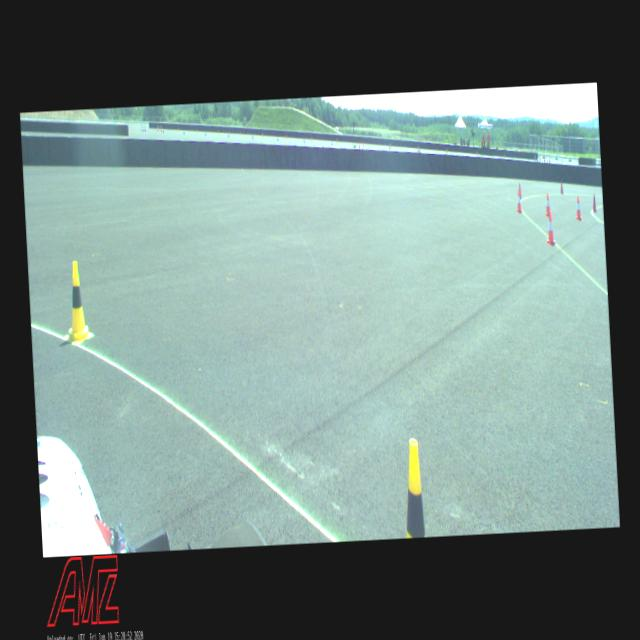orange_cone: (546, 212, 556, 246), (544, 192, 552, 217), (574, 197, 582, 220), (516, 190, 522, 213)
yellow_cone: (62, 260, 92, 344), (402, 438, 426, 538)
